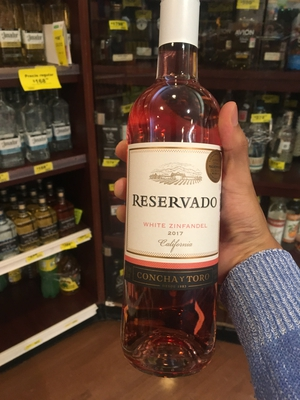reservado white zinfandel: (110, 12, 227, 373)
